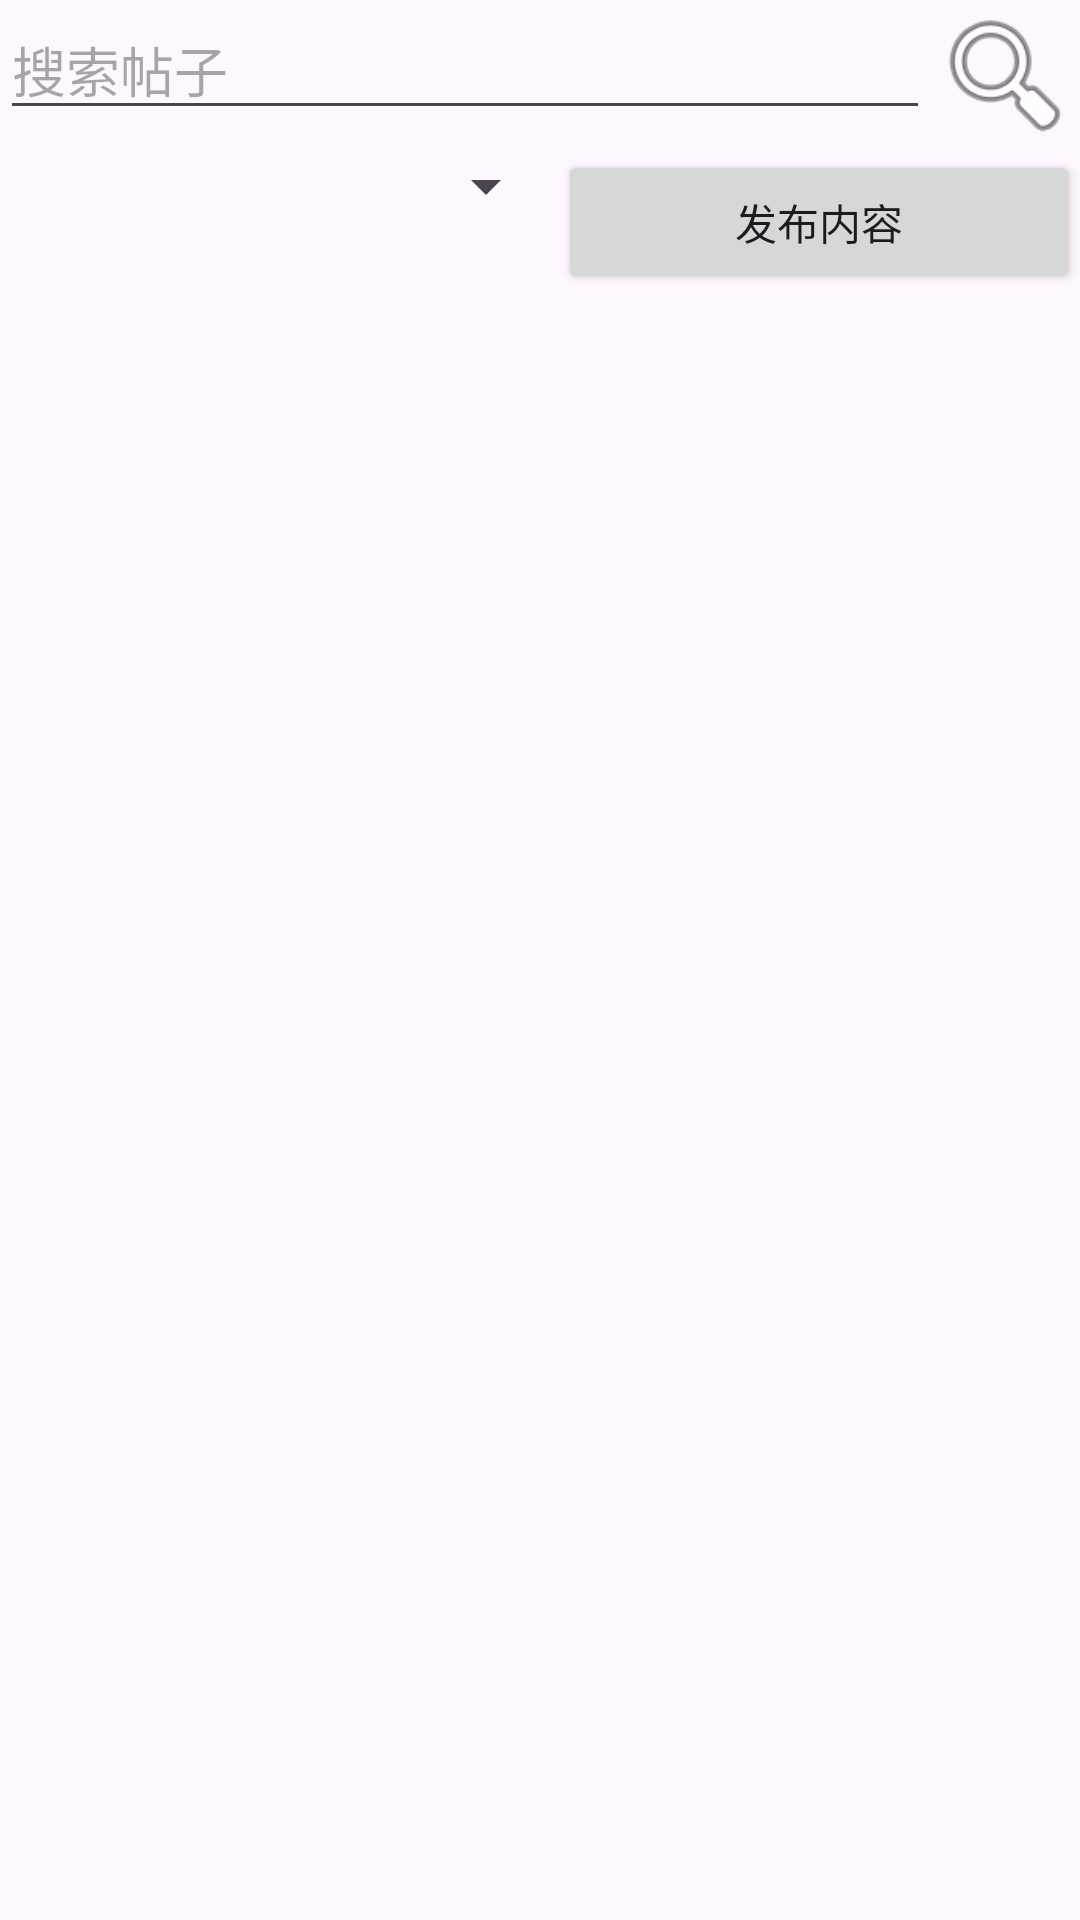

Where to tap for icons on this 1080 × 1920 app screen, as point (x, y):
search: point (1005, 76)
